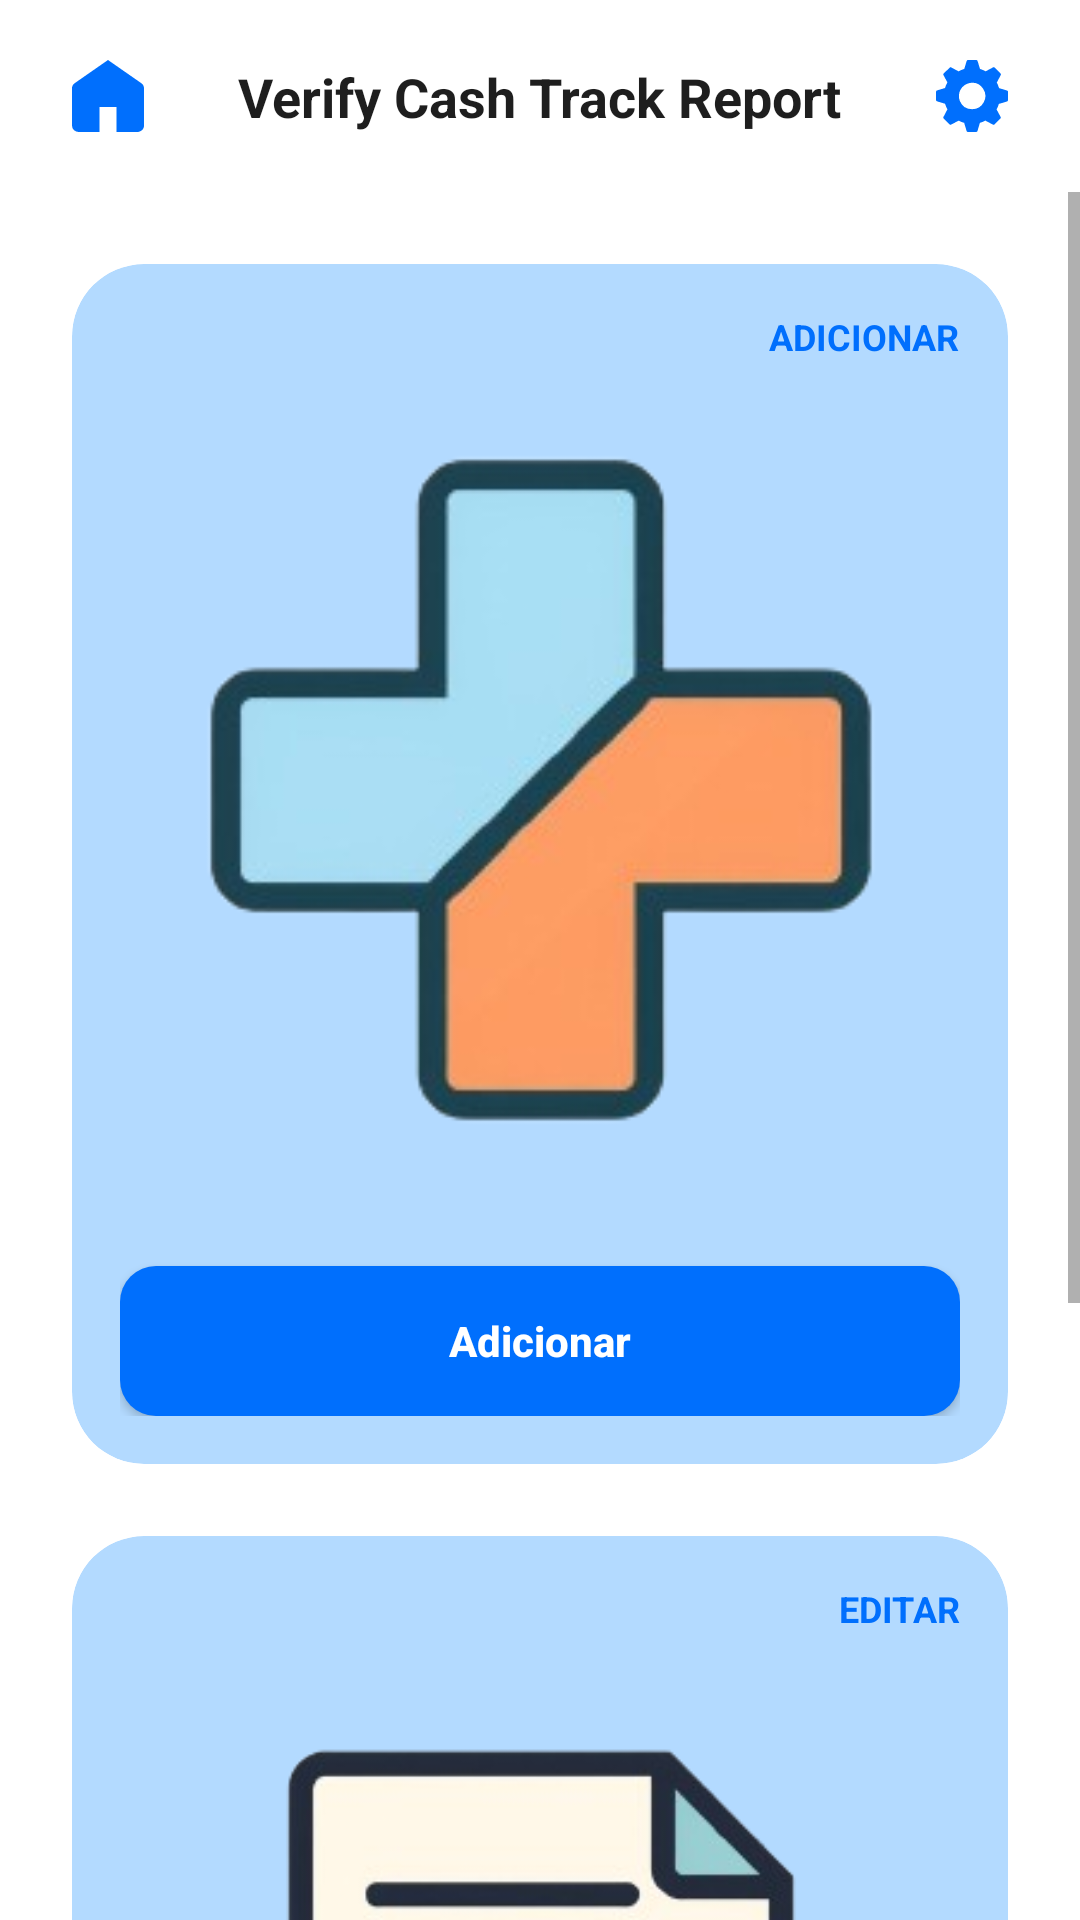

Icons on this 1080x1920 Android screen, each with its box as (x1,y1,x2,y2):
Configurações: (936,60,1008,132)
Home: (72,60,144,132)
